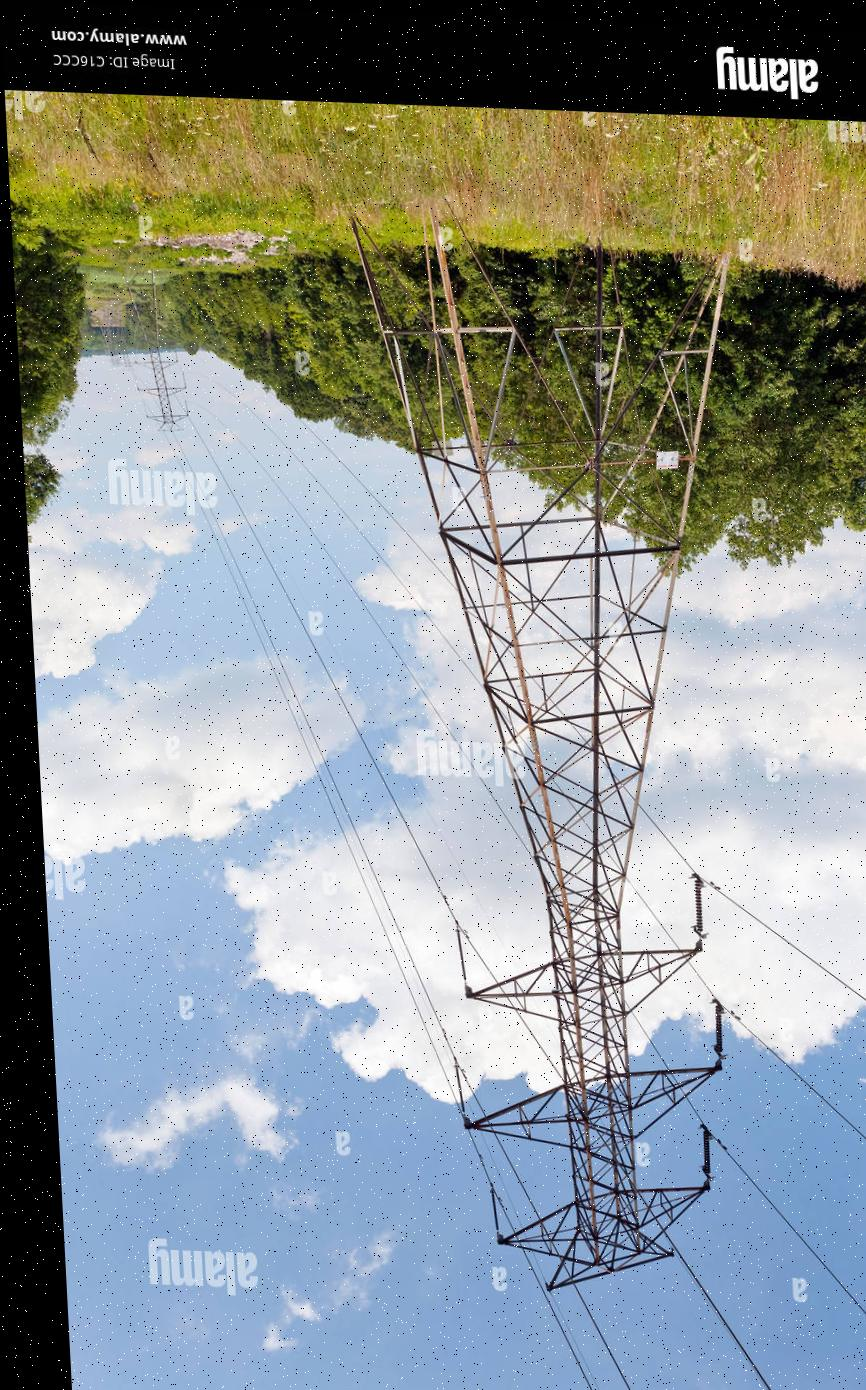tower: (356, 218, 765, 1315)
